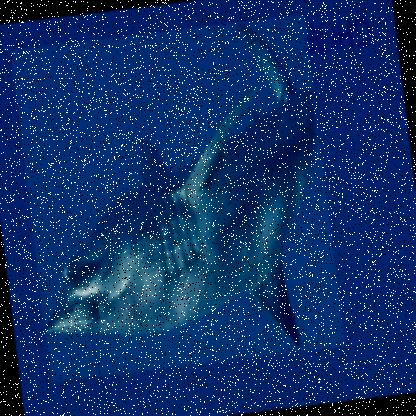mako-shark: (9, 13, 345, 382)
